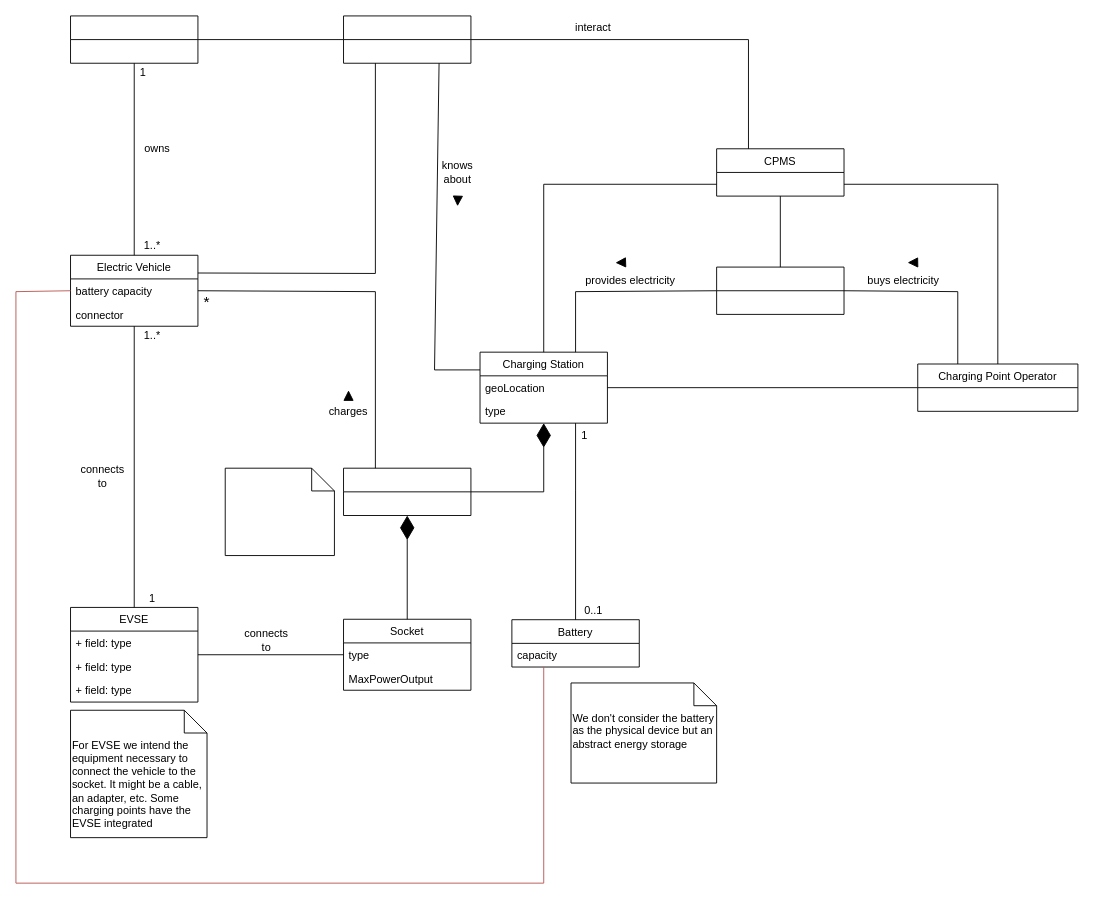
This 1094x900 diagram has some shape labels left out. Each missing label, with the centre of its shape:
ChargingPoint: [407,491]
DSO: [780,290]
eMSP: [407,39]
EV Driver: [134,39]
The actual physical device where the EV will connect to charge: [279,511]
